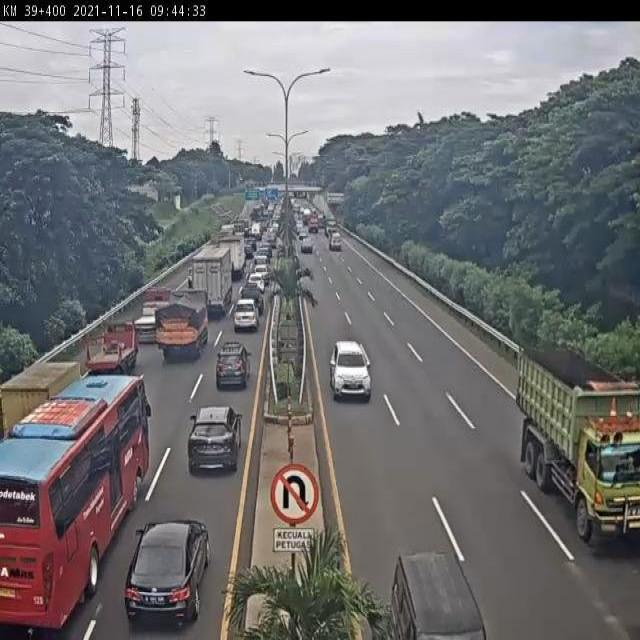big bus: (0, 373, 147, 628)
car: (125, 519, 211, 620), (187, 404, 242, 472), (331, 340, 370, 407), (216, 338, 247, 386), (232, 302, 257, 334), (241, 289, 264, 312), (247, 270, 266, 290)
small truck: (0, 358, 89, 442), (131, 277, 177, 340), (86, 317, 137, 372)
truck-l-: (516, 351, 640, 548), (191, 244, 234, 311)
truck-m-: (155, 291, 207, 360), (216, 239, 244, 280)
